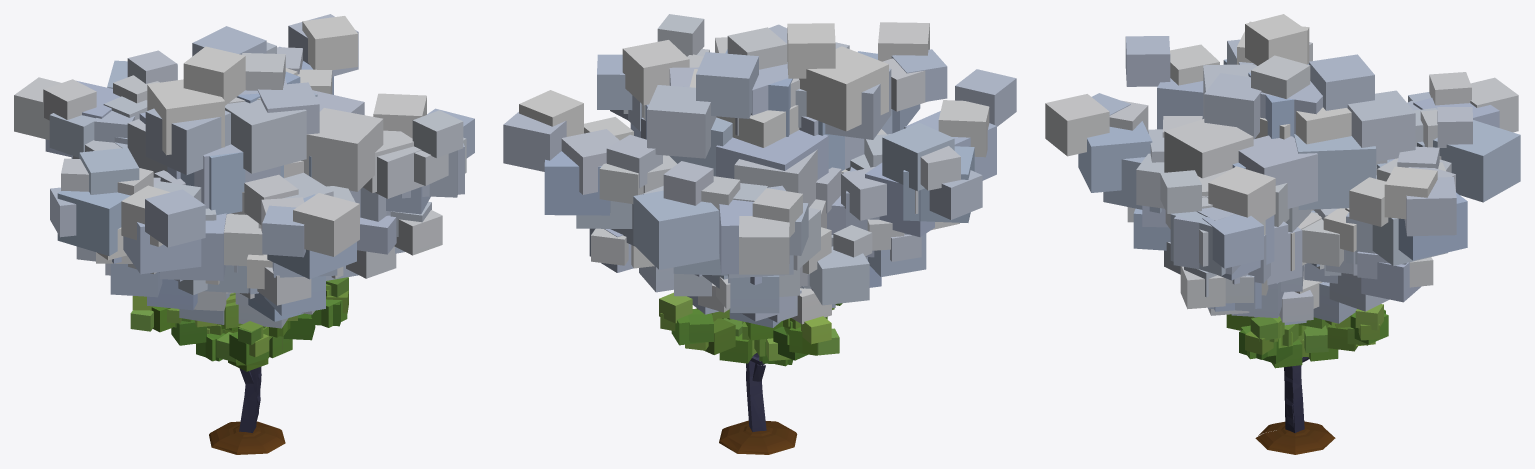
File: moonblossom.glb
3 views of the same model, side by side, from view 1: azimuth 30°, elevation 25°; view 2: azimuth 150°, elevation 25°; view 3: azimuth 270°, elevation 25° (orthographic). The views are drawn at different scales.
Parts seen in each view (by area): view 1: stage4_blossomGlow, stage4_l1_blossomGlow, stage3_blossomGlow, stage2_foliage, stage3_l1_blossomGlow, stage2_soil, stage2_l1_foliage, stage4_l1_bark; view 2: stage4_blossomGlow, stage4_l1_blossomGlow, stage3_blossomGlow, stage2_foliage, stage3_l1_blossomGlow, stage2_soil, stage2_l1_foliage, stage4_bark; view 3: stage4_blossomGlow, stage4_l1_blossomGlow, stage3_blossomGlow, stage2_foliage, stage3_l1_blossomGlow, stage2_soil, stage4_bark, stage2_l1_foliage.
Boxes of the visible parts, bbox=[...] form: stage4_blossomGlow: bbox=[14, 14, 474, 294]; stage4_l1_blossomGlow: bbox=[107, 26, 466, 293]; stage3_blossomGlow: bbox=[105, 213, 396, 328]; stage2_foliage: bbox=[130, 277, 348, 371]; stage3_l1_blossomGlow: bbox=[76, 202, 442, 261]; stage2_soil: bbox=[209, 421, 285, 454]; stage2_l1_foliage: bbox=[151, 284, 340, 361]; stage4_l1_bark: bbox=[239, 368, 261, 432]; stage4_blossomGlow: bbox=[503, 22, 982, 285]; stage4_l1_blossomGlow: bbox=[610, 14, 1016, 288]; stage3_blossomGlow: bbox=[589, 169, 926, 327]; stage2_foliage: bbox=[659, 292, 842, 364]; stage3_l1_blossomGlow: bbox=[791, 225, 872, 324]; stage2_soil: bbox=[719, 420, 797, 454]; stage2_l1_foliage: bbox=[759, 318, 817, 366]; stage4_bark: bbox=[746, 361, 764, 431]; stage4_blossomGlow: bbox=[1045, 14, 1518, 295]; stage4_l1_blossomGlow: bbox=[1125, 36, 1520, 291]; stage3_blossomGlow: bbox=[1127, 207, 1433, 325]; stage2_foliage: bbox=[1226, 304, 1388, 367]; stage3_l1_blossomGlow: bbox=[1180, 209, 1313, 322]; stage2_soil: bbox=[1255, 421, 1335, 454]; stage4_bark: bbox=[1284, 365, 1304, 432]; stage2_l1_foliage: bbox=[1239, 316, 1306, 368].
Size of the model in its own units: 2.98 by 2.86 by 3.16.
